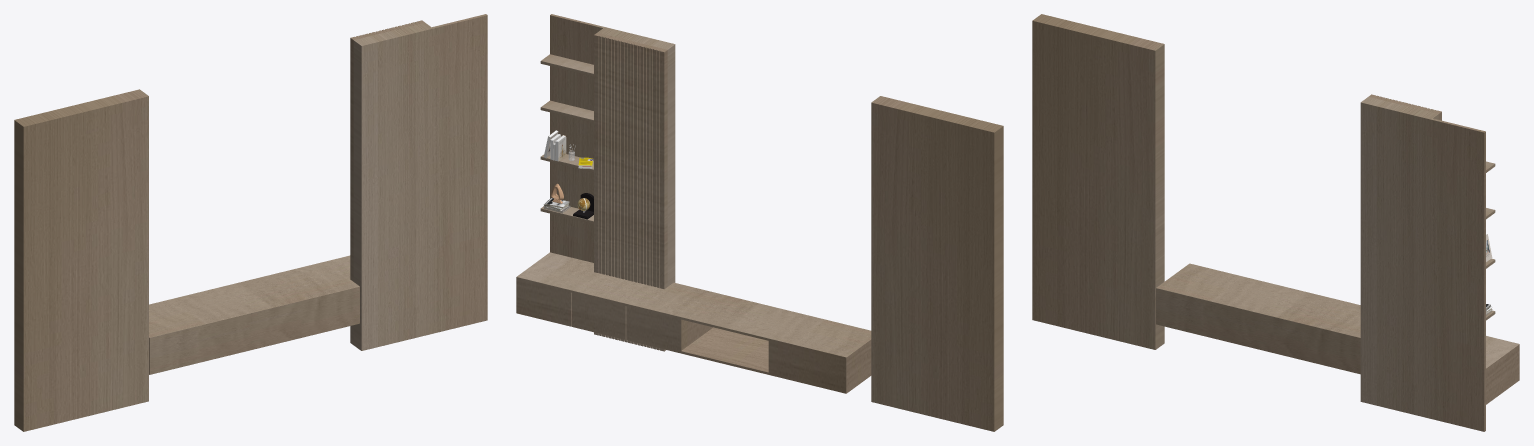
3 renders of one model, left to right at view 1: azimuth 30°, elevation 25°; view 2: azimuth 150°, elevation 25°; view 3: azimuth 330°, elevation 25°, orthographic.
Parts seen in each view (by area): view 1: Wall_Plane.008, Wall_Plane.009, Item_Cube.008, Wall_Plane.007; view 2: Wall_Plane.008, Item_Cube.008, Wall_Plane.007, Wall_Plane.009, Item_Cube.009, Item_Book 2; view 3: Wall_Plane.008, Wall_Plane.009, Item_Cube.008.
Boxes of the visible parts, box(x1,y1,x2,y2) form: Wall_Plane.008: box(14, 89, 148, 431); Wall_Plane.009: box(353, 14, 487, 350); Item_Cube.008: box(149, 255, 359, 374); Wall_Plane.007: box(350, 20, 424, 344); Wall_Plane.008: box(871, 96, 1003, 431); Item_Cube.008: box(516, 252, 871, 393); Wall_Plane.007: box(594, 32, 667, 351); Wall_Plane.009: box(550, 14, 675, 286); Item_Cube.009: box(540, 54, 593, 223); Item_Book 2: box(543, 130, 566, 161); Wall_Plane.008: box(1032, 14, 1164, 349); Wall_Plane.009: box(1360, 97, 1485, 431); Item_Cube.008: box(1156, 263, 1519, 404).
Bounding box in the file's own units: 4.76 × 3 × 0.6415.
21 materials, 14 textured.
